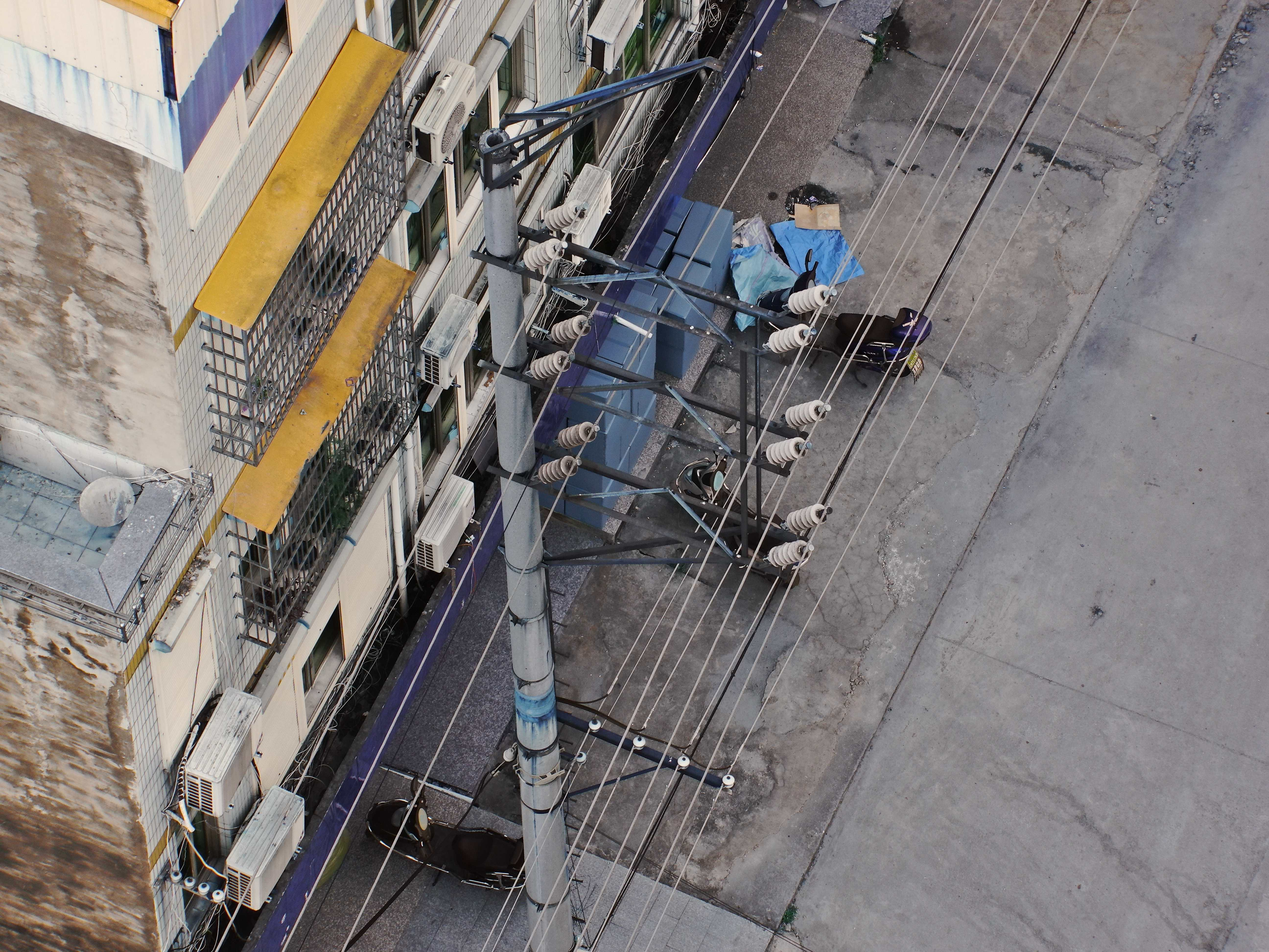severe_soiling_no_discharge_whole: (767, 321, 819, 356), (543, 197, 591, 233), (521, 237, 569, 272), (786, 284, 838, 316), (784, 501, 834, 534), (764, 434, 814, 467), (767, 536, 816, 569), (783, 397, 833, 429), (556, 417, 602, 451), (529, 349, 576, 382), (537, 454, 583, 486), (550, 312, 594, 345)
